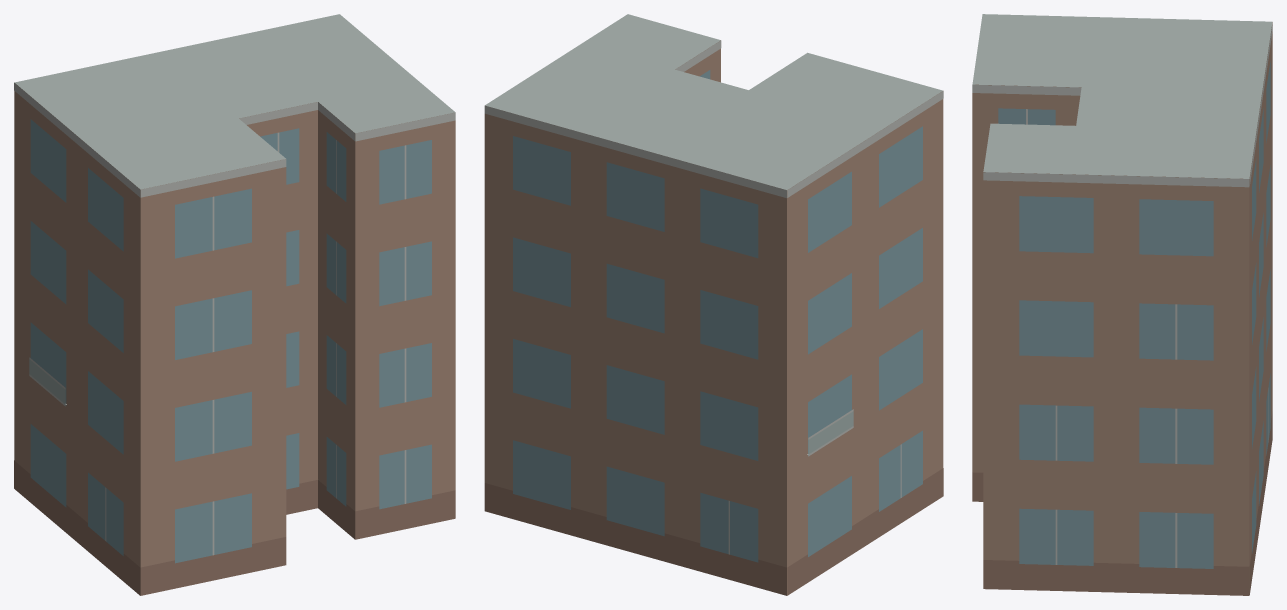
The model's file is residential-bcb502f3-9164-41fd-8ad3-fa3effee6aa4.glb.
3 renders of one model, left to right at view 1: azimuth 30°, elevation 25°; view 2: azimuth 150°, elevation 25°; view 3: azimuth 270°, elevation 25°, orthographic. The views are drawn at different scales.
Parts seen in each view (by area): view 1: residential-bcb502f3-9164-41fd-8ad3-fa3effee6aa4.tmp; view 2: residential-bcb502f3-9164-41fd-8ad3-fa3effee6aa4.tmp; view 3: residential-bcb502f3-9164-41fd-8ad3-fa3effee6aa4.tmp.
Boxes of the visible parts, <box> form: residential-bcb502f3-9164-41fd-8ad3-fa3effee6aa4.tmp: <box>14,14,455,595</box>; residential-bcb502f3-9164-41fd-8ad3-fa3effee6aa4.tmp: <box>484,14,943,595</box>; residential-bcb502f3-9164-41fd-8ad3-fa3effee6aa4.tmp: <box>972,14,1272,595</box>.
Size of the model in its own units: 10.36 by 12.2 by 7.97.
